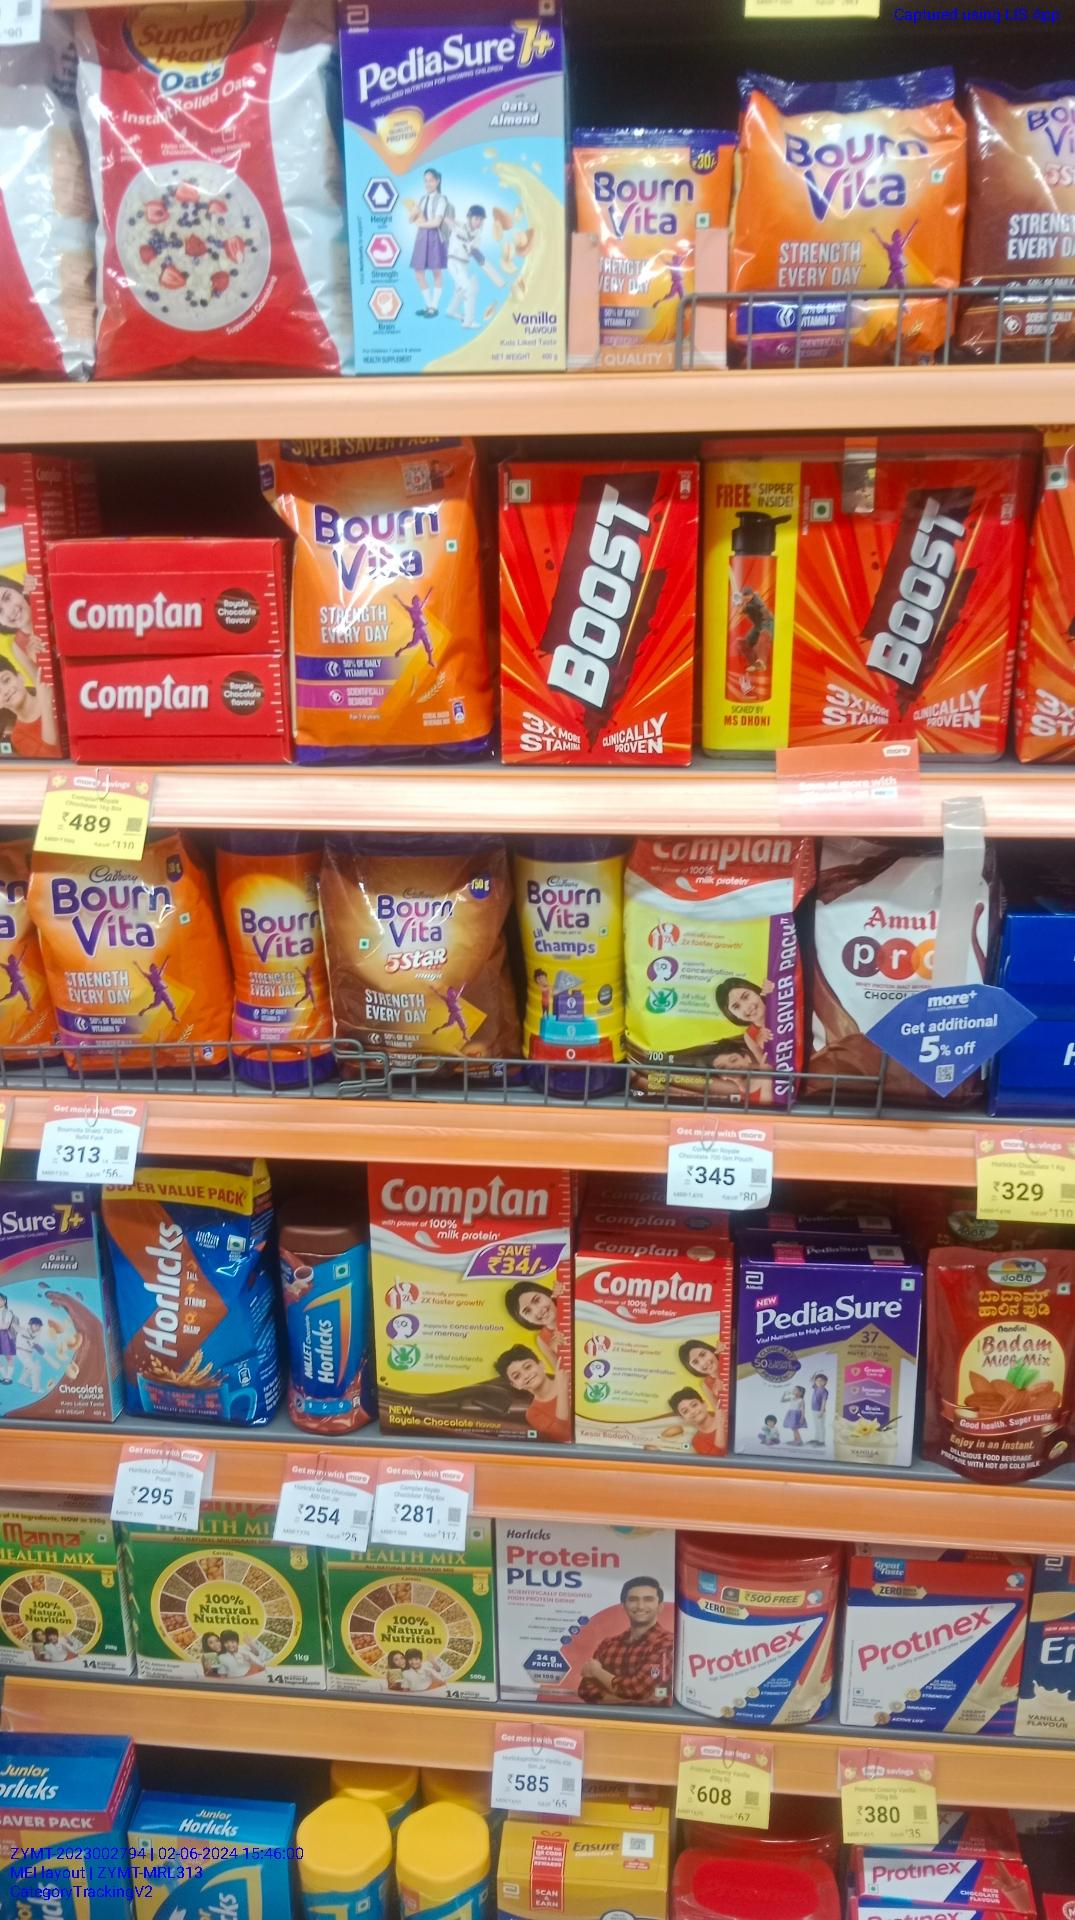BOURN_VITA_1_KG_POUCH: (293, 440, 489, 758)
BOURN_VITA_500_G_JAR: (222, 829, 318, 1091)
BOURN_VITA_500_G_POUCH: (737, 74, 956, 368)
BOURN_VITA_750_G_POUCH: (42, 865, 211, 1081)
BOURN_VITA_75_G_POUCH: (579, 129, 722, 340)
BOURN_VITA_CHAMPS_500_G_JAR: (513, 832, 620, 1102)
BOURN_VITA_FIVE_STAR_MAGIC_750_G_POUCH: (326, 837, 507, 1081)
COMPLAN_KESAR_BADAM_200_GMS_PACK: (572, 1255, 725, 1455)
COMPLAN_RC_POUCH_700_GMS_12: (627, 835, 799, 1108)
HORLICK_CHOCOLATE_750_G_POUCH: (119, 1188, 262, 1420)
PROTINEX_VANILLA_400_G_JAR: (678, 1544, 830, 1726)
